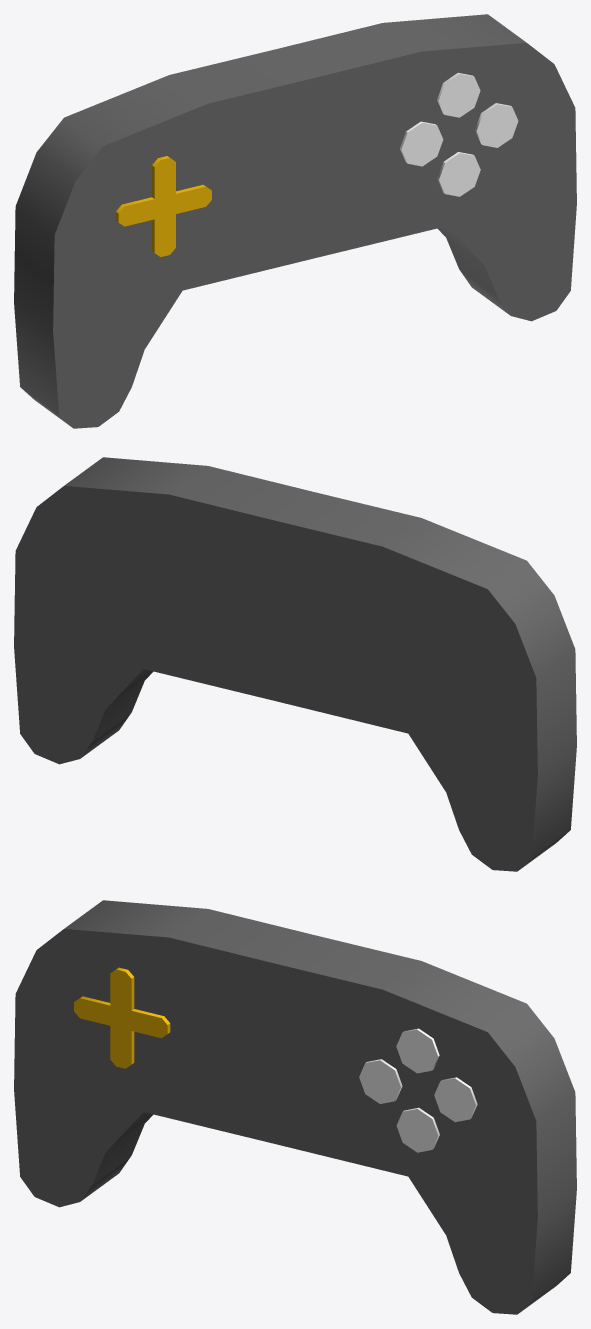
File: Joystick_2.fbx
The picture shows the model from 3 angles, top to bottom: view 1: azimuth 30°, elevation 25°; view 2: azimuth 150°, elevation 25°; view 3: azimuth 330°, elevation 25°; orthographic projection.
Parts seen in each view (by area): view 1: Joystick_2; view 2: Joystick_2; view 3: Joystick_2.
Boxes of the visible parts, left/top/right/bottom form: Joystick_2: left=14, top=14, right=576, bottom=428; Joystick_2: left=14, top=457, right=576, bottom=871; Joystick_2: left=14, top=900, right=576, bottom=1314.
Bounding box in the file's own units: 0.285 × 0.1542 × 0.0393.
